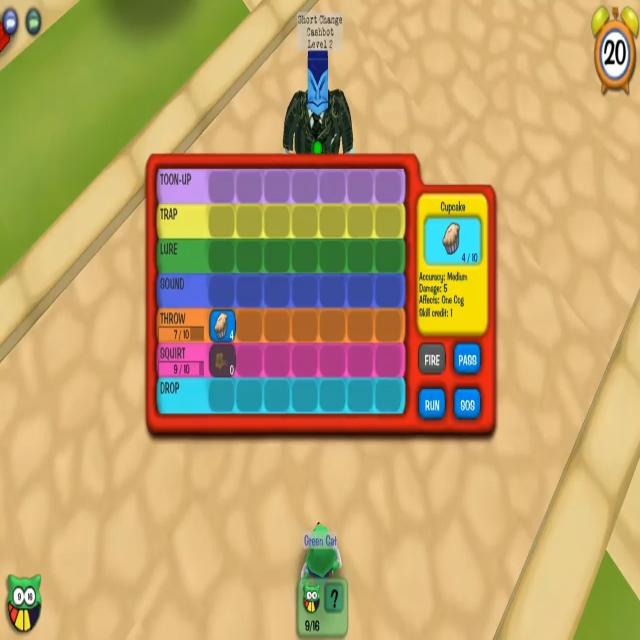shortchange: (282, 10, 360, 154)
